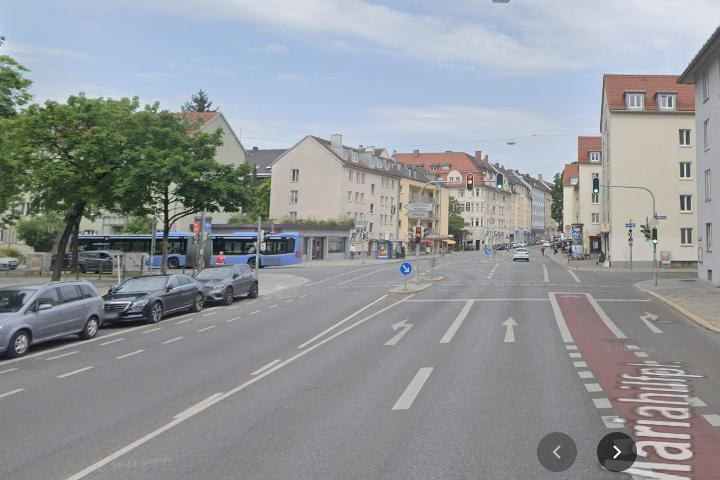traffic_sign: (400, 261, 412, 275)
vehicle: (56, 231, 307, 272), (1, 278, 106, 365), (87, 271, 209, 330), (177, 264, 262, 308), (512, 246, 530, 261)
